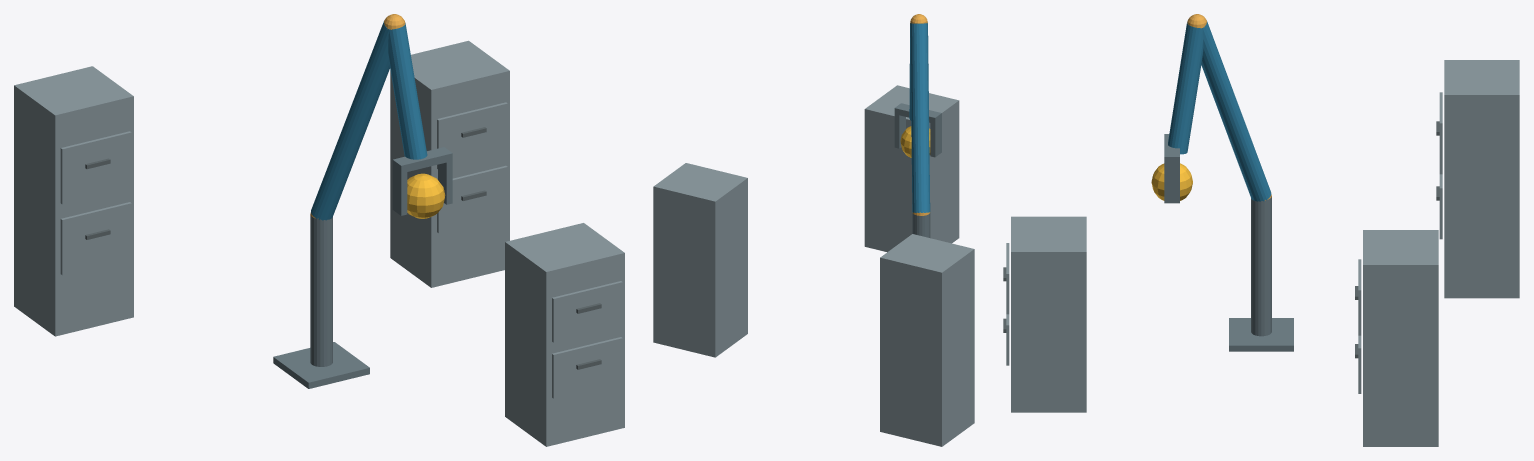
3 renders of one model, left to right at view 1: azimuth 30°, elevation 25°; view 2: azimuth 150°, elevation 25°; view 3: azimuth 270°, elevation 25°, orthographic. The views are drawn at different scales.
Visible parts, largest first — view 1: cabinet_3 body, cabinet_1 body, cabinet_2 body, moving link 1, cabinet_3 drawer front, cabinet_3 drawer front.001, fixed post, cabinet_2 drawer front.001, cabinet_2 drawer front, cabinet_1 drawer front.001, cabinet_1 drawer front, moving link 2 (+4 smaller); view 2: cabinet_3 body, cabinet_2 body, cabinet_1 body, moving link 1, fixed post, gripper finger -1, ball ball_1, gripper bridge, gripper finger 1; view 3: cabinet_3 body, cabinet_2 body, cabinet_1 body, moving link 1, fixed post, moving link 2, pedestal, ball ball_1, gripper finger 1.
Part boxes in pixels (x1,y1,x2,y2): cabinet_3 body: (14, 66, 133, 336); cabinet_1 body: (505, 223, 624, 446); cabinet_2 body: (390, 40, 509, 287); moving link 1: (311, 21, 389, 220); cabinet_3 drawer front: (60, 202, 131, 275); cabinet_3 drawer front.001: (60, 131, 131, 204); fixed post: (310, 215, 332, 366); cabinet_2 drawer front.001: (437, 102, 507, 168); cabinet_2 drawer front: (437, 165, 507, 233); cabinet_1 drawer front.001: (552, 281, 622, 342); cabinet_1 drawer front: (552, 337, 622, 398); moving link 2: (388, 23, 427, 159); cabinet_3 body: (880, 234, 974, 446); cabinet_2 body: (653, 163, 747, 357); cabinet_1 body: (864, 85, 959, 252); moving link 1: (910, 23, 930, 212); fixed post: (912, 212, 930, 237); gripper finger -1: (930, 119, 941, 157); ball ball_1: (900, 126, 930, 157); gripper bridge: (894, 103, 941, 123); gripper finger 1: (894, 114, 905, 148); cabinet_3 body: (1444, 60, 1519, 298); cabinet_2 body: (1363, 230, 1438, 446); cabinet_1 body: (1011, 216, 1086, 412); moving link 1: (1201, 21, 1271, 201); fixed post: (1251, 196, 1271, 336); moving link 2: (1168, 22, 1203, 154); pedestal: (1229, 318, 1293, 351); ball ball_1: (1151, 163, 1192, 200); gripper finger 1: (1164, 164, 1179, 203).
Bounding box in the file's own units: 1.67 × 1.44 × 1.98.
